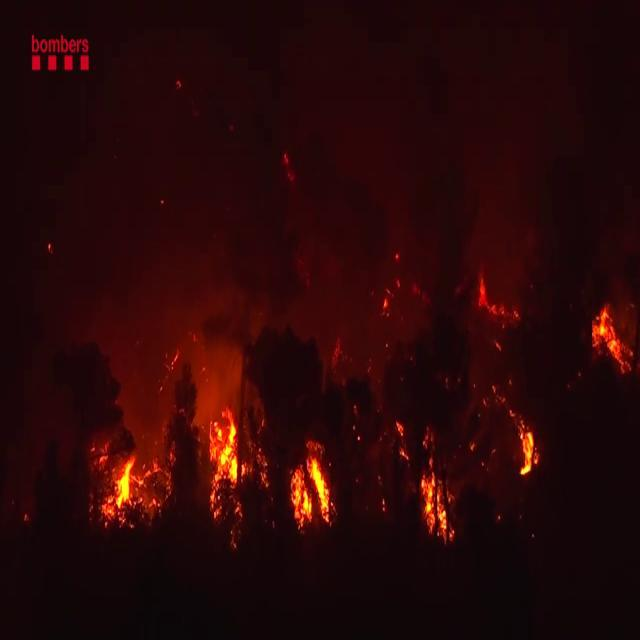Fire: (288, 447, 334, 528), (206, 406, 244, 502), (419, 452, 451, 542), (588, 298, 624, 370), (104, 451, 140, 522), (518, 418, 540, 482)
Smoke: (134, 215, 280, 428)
